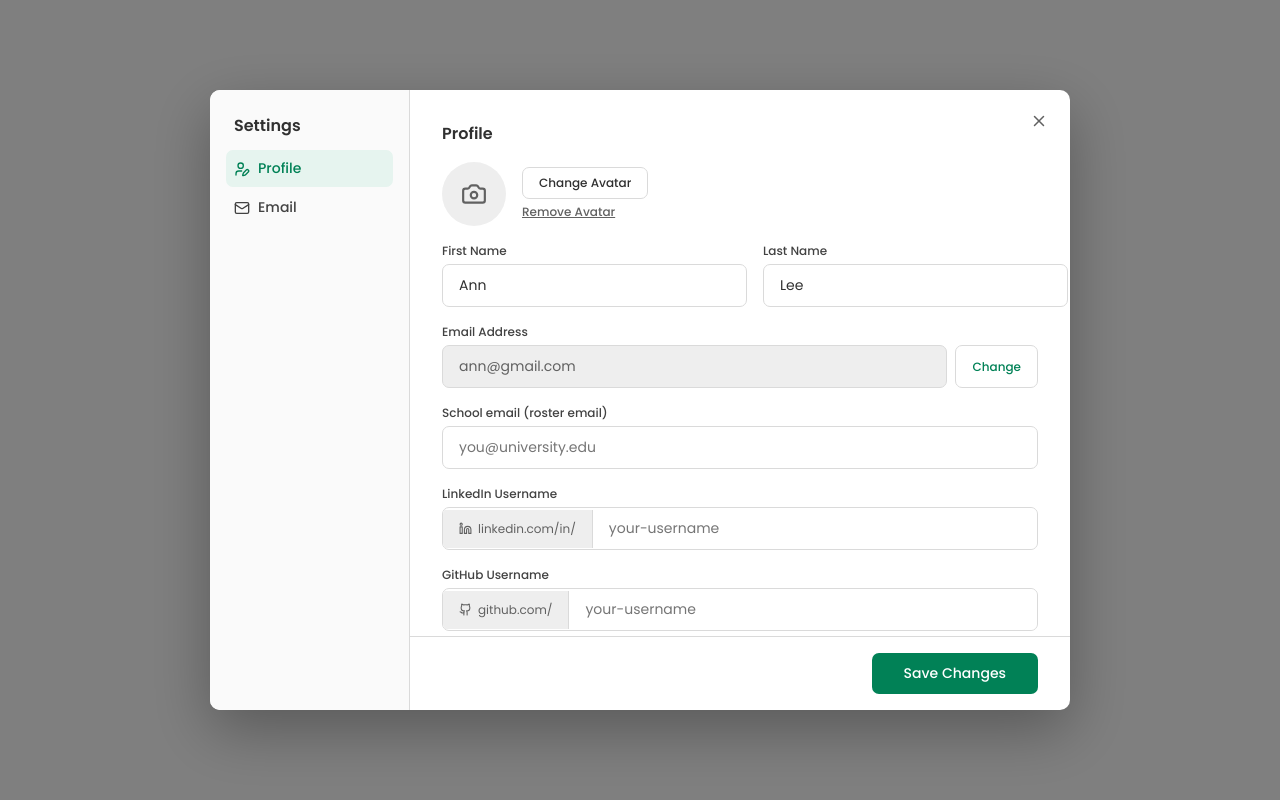
Settings — Email › the section › lists each category as a labelled switch with its description, on or off as saved
Step 1. Click the button "Email" → (310, 208), box [226,189,393,226]
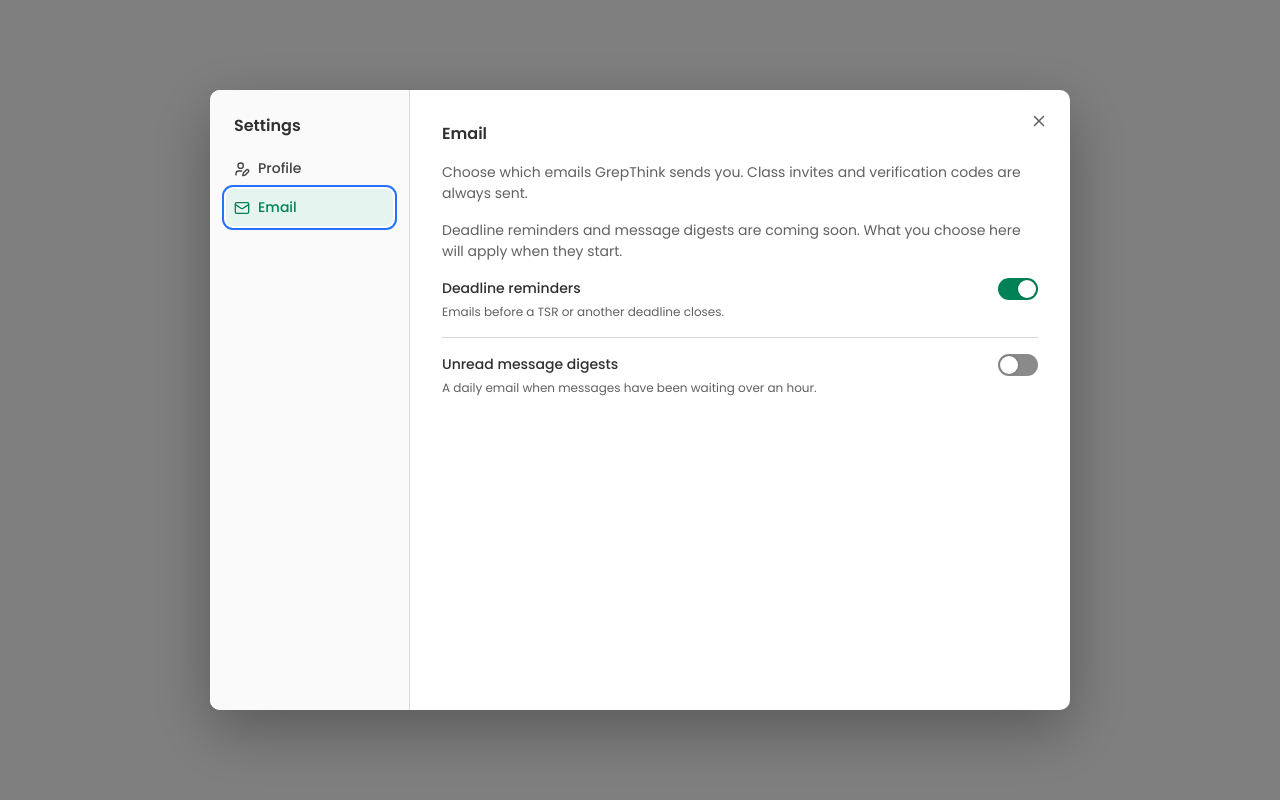
Now the switch labelled "Deadline reminders" is checked, box [998,278,1038,300]
Now the switch labelled "Unread message digests" is not checked, box [998,354,1038,376]
Now the heading "Email" is shown, box [442,122,487,146]
